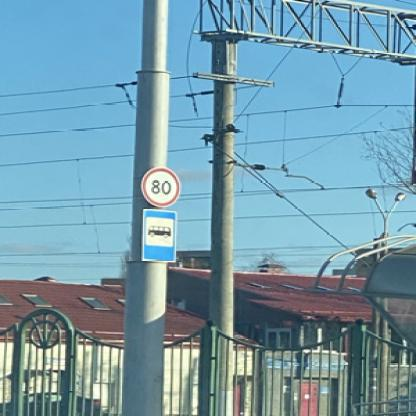speedlimit: (139, 166, 179, 204)
